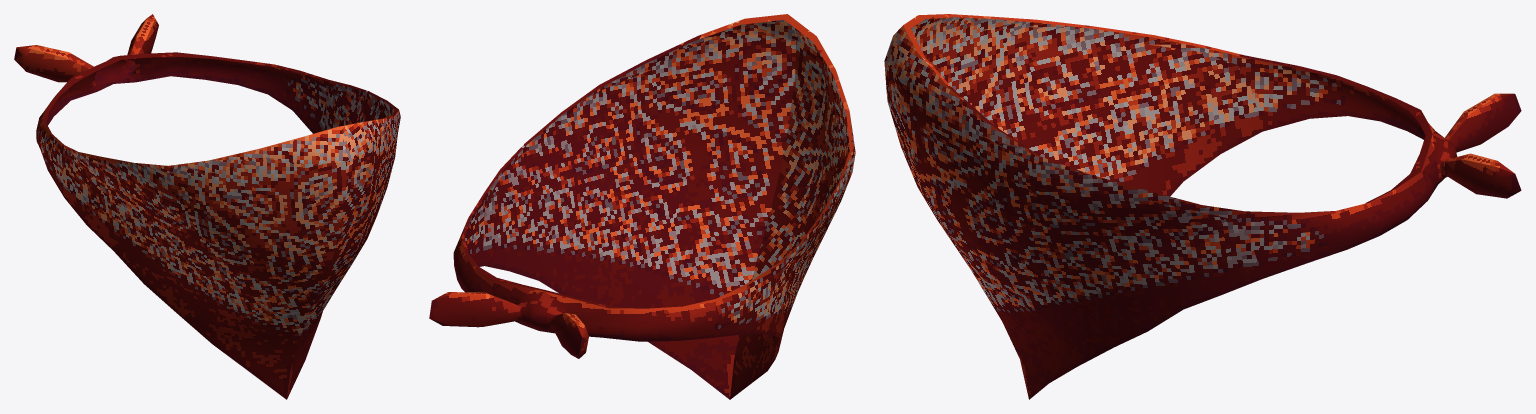
File: wear_bandana.glb
The picture shows the model from 3 angles, left to right: view 1: azimuth 30°, elevation 25°; view 2: azimuth 150°, elevation 25°; view 3: azimuth 270°, elevation 25°; orthographic projection. The views are drawn at different scales.
Parts seen in each view (by area): view 1: mesh; view 2: mesh; view 3: mesh.
Boxes of the visible parts, bbox=[...] form: mesh: bbox=[14, 14, 400, 399]; mesh: bbox=[429, 14, 855, 399]; mesh: bbox=[884, 14, 1521, 399].
Bounding box in the file's own units: 0.1373 × 0.15 × 0.2311.
Materials: 1 (1 with a texture image).
